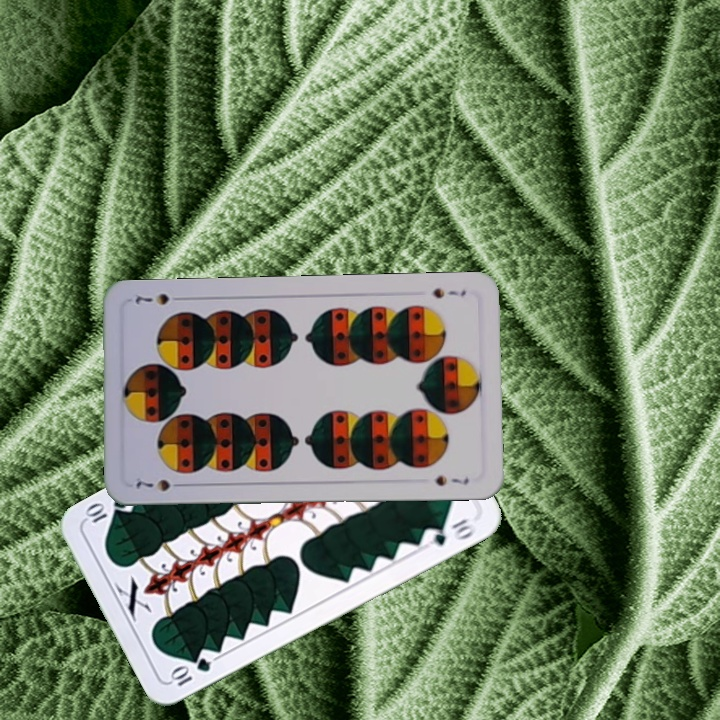G10: (166, 654, 214, 689)
S7: (132, 475, 188, 494), (429, 284, 468, 301)
